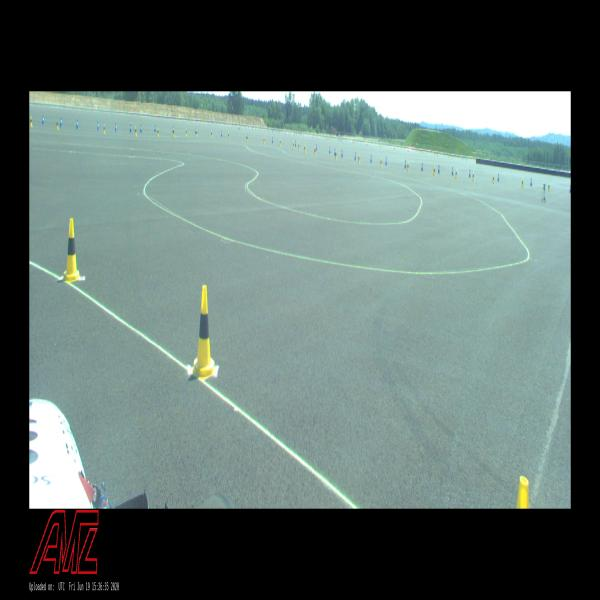blue_cone: (76, 120, 79, 128), (97, 122, 100, 130), (115, 123, 118, 131), (451, 167, 454, 175), (497, 174, 500, 182), (42, 115, 44, 124), (421, 162, 423, 171), (60, 118, 62, 126), (130, 124, 132, 132), (438, 165, 440, 173), (468, 170, 470, 178), (530, 178, 532, 186), (569, 185, 571, 193), (140, 125, 142, 132), (154, 125, 156, 132)
yellow_cone: (190, 286, 217, 380), (63, 218, 81, 282), (30, 116, 33, 127), (103, 124, 106, 134), (433, 166, 436, 176), (157, 128, 160, 137), (492, 175, 495, 184), (135, 126, 137, 136), (407, 162, 409, 172), (173, 128, 175, 137), (303, 146, 306, 152), (380, 158, 382, 167), (548, 183, 550, 192), (455, 169, 457, 178), (472, 172, 474, 181), (314, 148, 316, 156), (335, 151, 337, 159), (358, 155, 360, 163), (522, 179, 524, 187), (298, 143, 300, 150), (57, 120, 58, 130)
